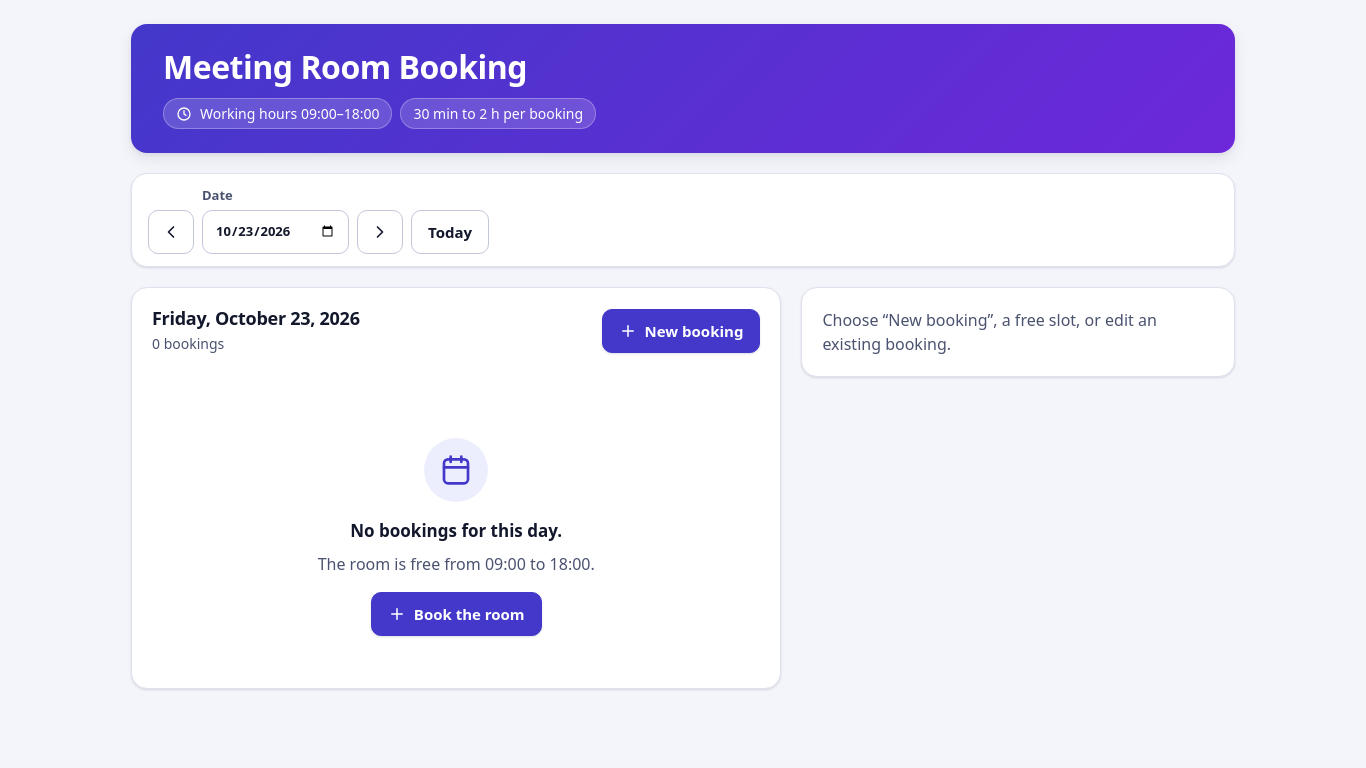
Scenario: creating a booking › asks for the missing time instead of submitting an incomplete form
The image size is (1366, 768).
Expected: the text "No bookings for this day." is shown, [350,518,562,544]
Click the button "New booking" at (681, 331), box [602,309,760,353]
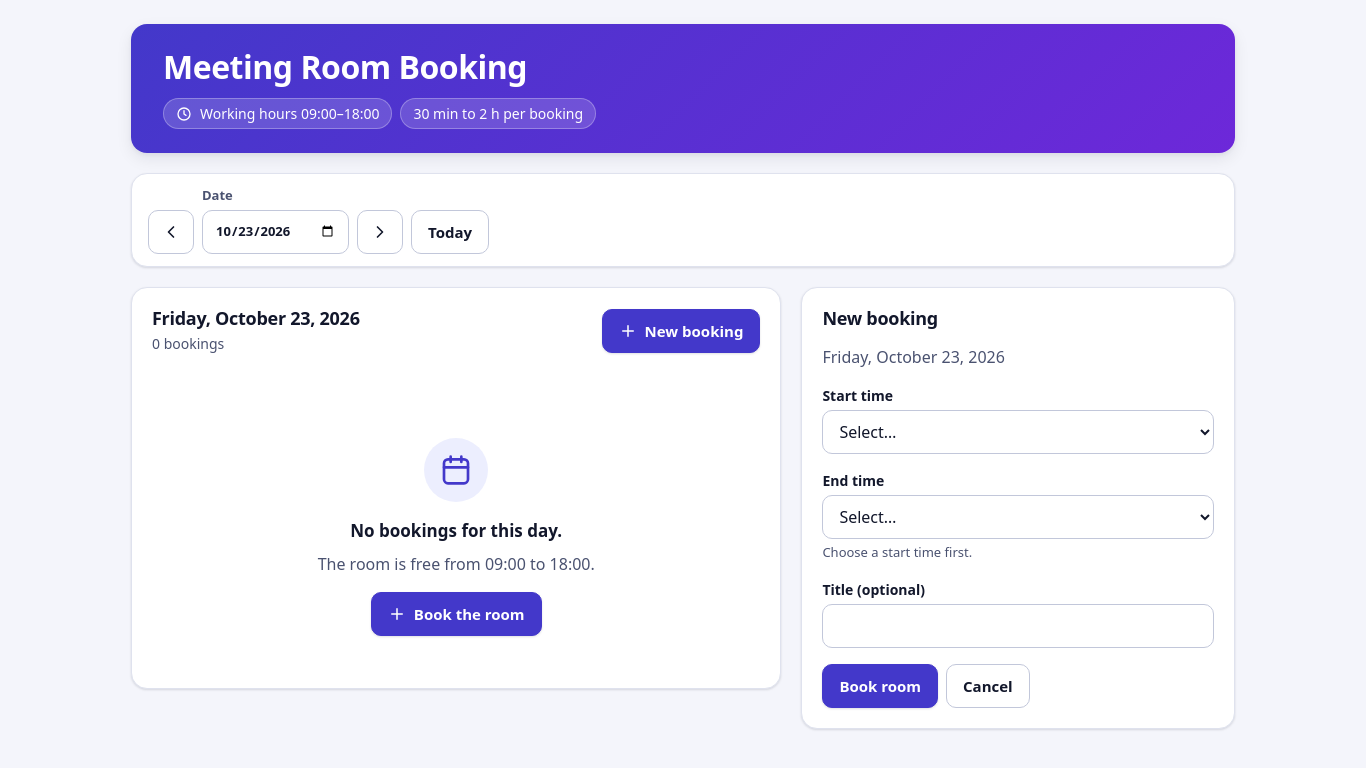
Click the button "Book room" at (880, 686), box [822,664,938,708]
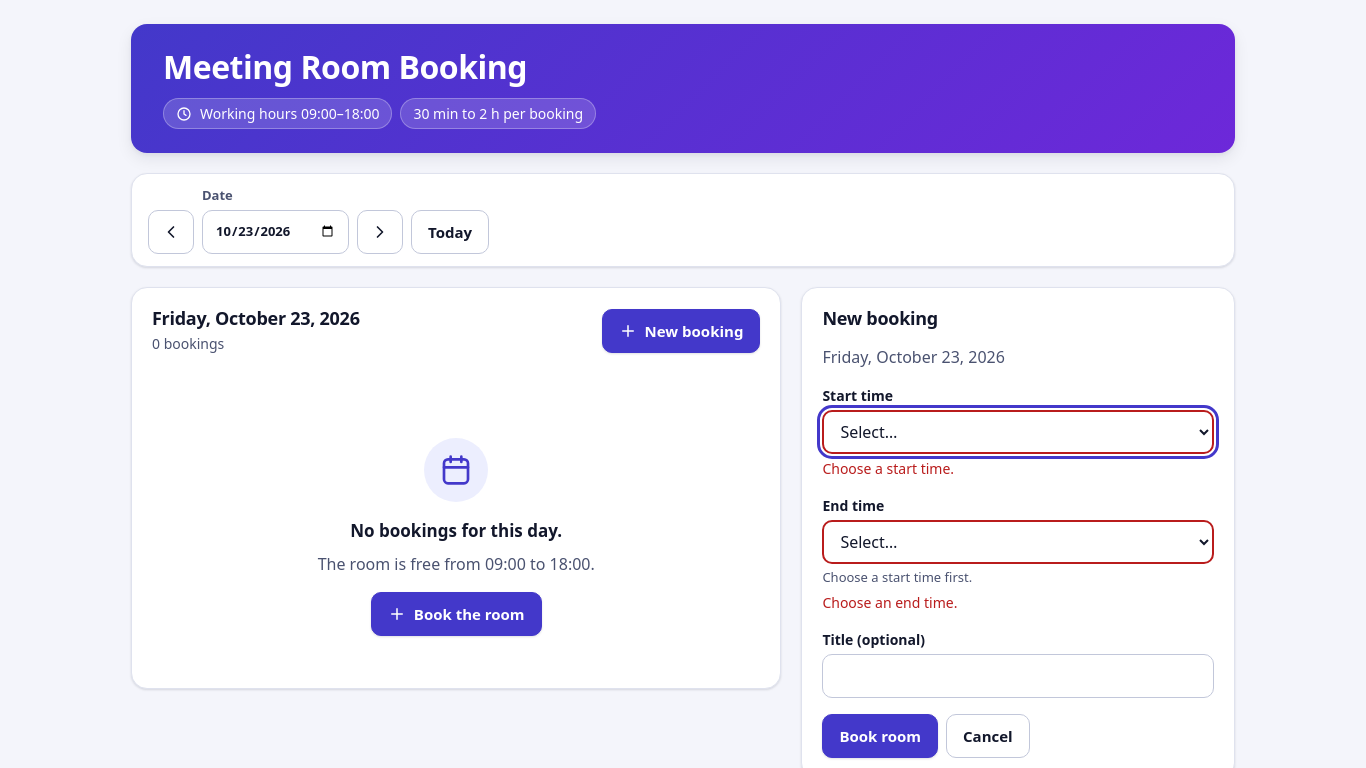
Result: the text "Choose a start time." is shown at [822,460,954,478]
